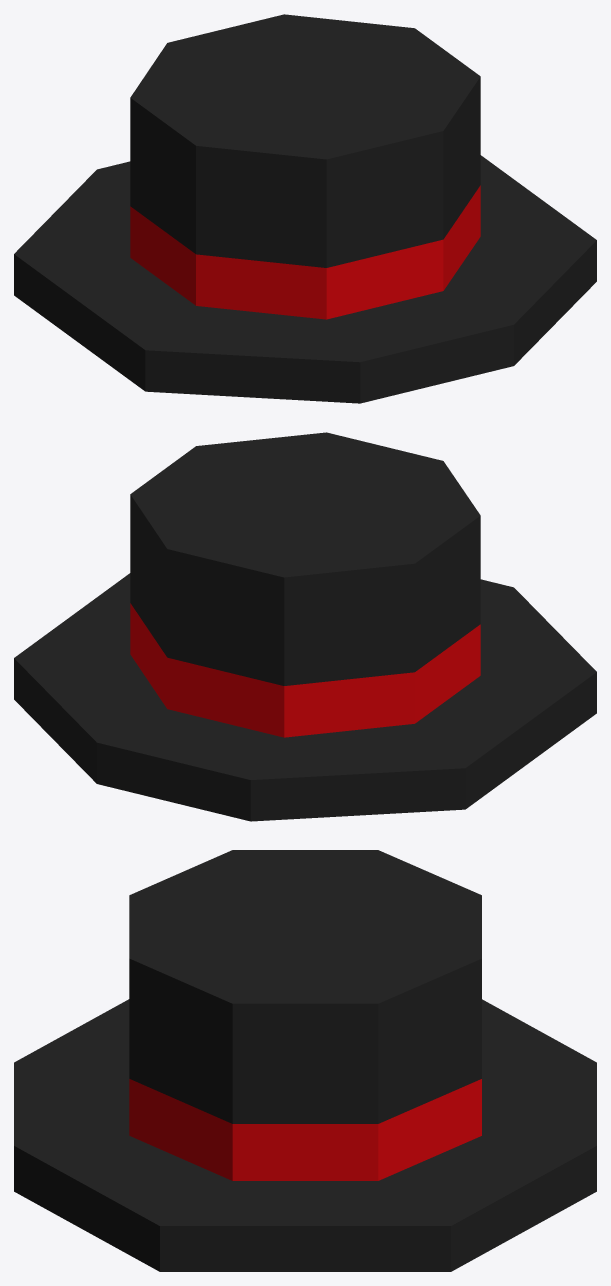
The model's file is top_hat.glb.
3 views of the same model, one above another, from view 1: azimuth 30°, elevation 25°; view 2: azimuth 150°, elevation 25°; view 3: azimuth 270°, elevation 25° (orthographic). The views are drawn at different scales.
Parts seen in each view (by area): view 1: Cube; view 2: Cube; view 3: Cube.
Boxes of the visible parts, box(x1,y1,x2,y2) form: Cube: box(14, 14, 596, 403); Cube: box(14, 432, 596, 821); Cube: box(14, 850, 596, 1271).
Bounding box in the file's own units: 1.43 × 0.6081 × 1.44.
Materials: 2 (1 with a texture image).
